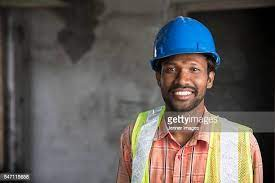face: (159, 48, 219, 109)
helmet: (151, 15, 218, 67)
human: (112, 25, 269, 182)
nogoggle: (154, 60, 185, 73)
vest: (143, 128, 260, 182)
